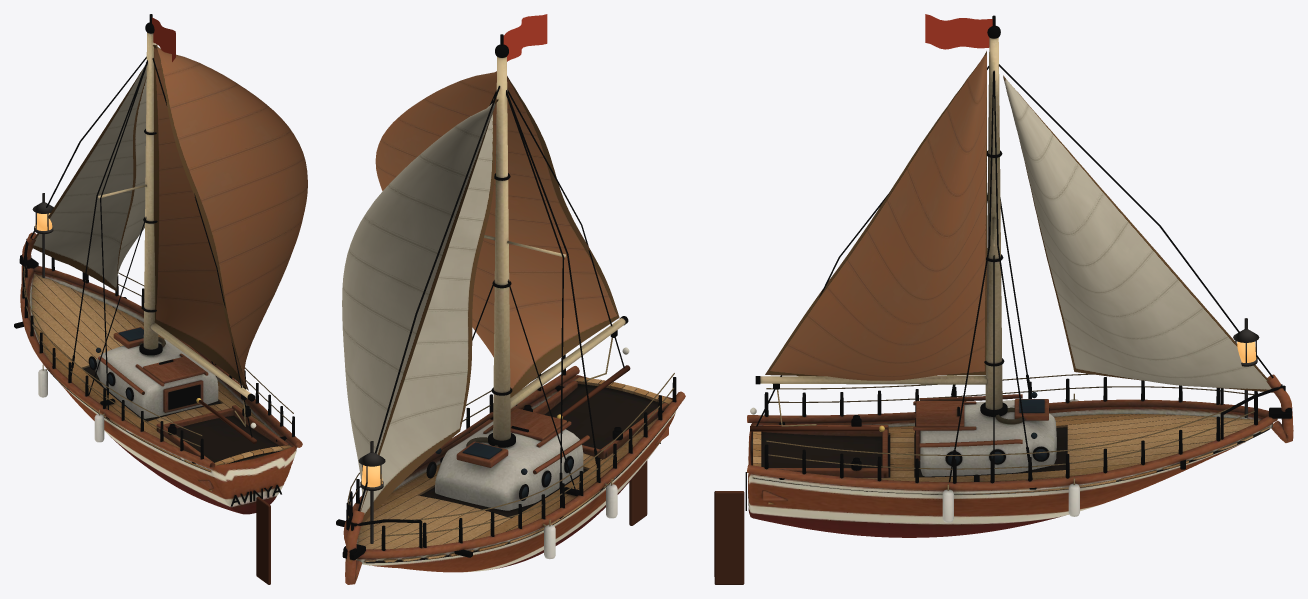
The model's file is boat.glb.
The picture shows the model from 3 angles, left to right: view 1: azimuth 30°, elevation 25°; view 2: azimuth 150°, elevation 25°; view 3: azimuth 270°, elevation 25°; orthographic projection. The views are drawn at different scales.
Visible parts, largest first — view 1: Boat_Body, Sail_Main, Sail_Jib, Rudder, Flag; view 2: Boat_Body, Sail_Jib, Sail_Main, Flag, Rudder, Tiller; view 3: Boat_Body, Sail_Main, Sail_Jib, Rudder, Flag.
Part boxes in pixels (<box>): Boat_Body: <box>14,14,302,514</box>; Sail_Main: <box>153,44,307,390</box>; Sail_Jib: <box>32,66,146,291</box>; Rudder: <box>256,496,270,584</box>; Flag: <box>152,17,175,61</box>; Boat_Body: <box>336,34,685,584</box>; Sail_Jib: <box>342,98,498,522</box>; Sail_Main: <box>375,71,619,397</box>; Flag: <box>503,14,547,61</box>; Rudder: <box>629,460,647,525</box>; Tiller: <box>562,365,630,417</box>; Boat_Body: <box>745,15,1293,537</box>; Sail_Main: <box>765,51,986,380</box>; Sail_Jib: <box>1003,75,1273,392</box>; Rudder: <box>714,491,744,584</box>; Flag: <box>925,14,992,49</box>.
Size of the model in its own units: 2.45 by 5.47 by 5.05.
8 materials, 3 textured.
